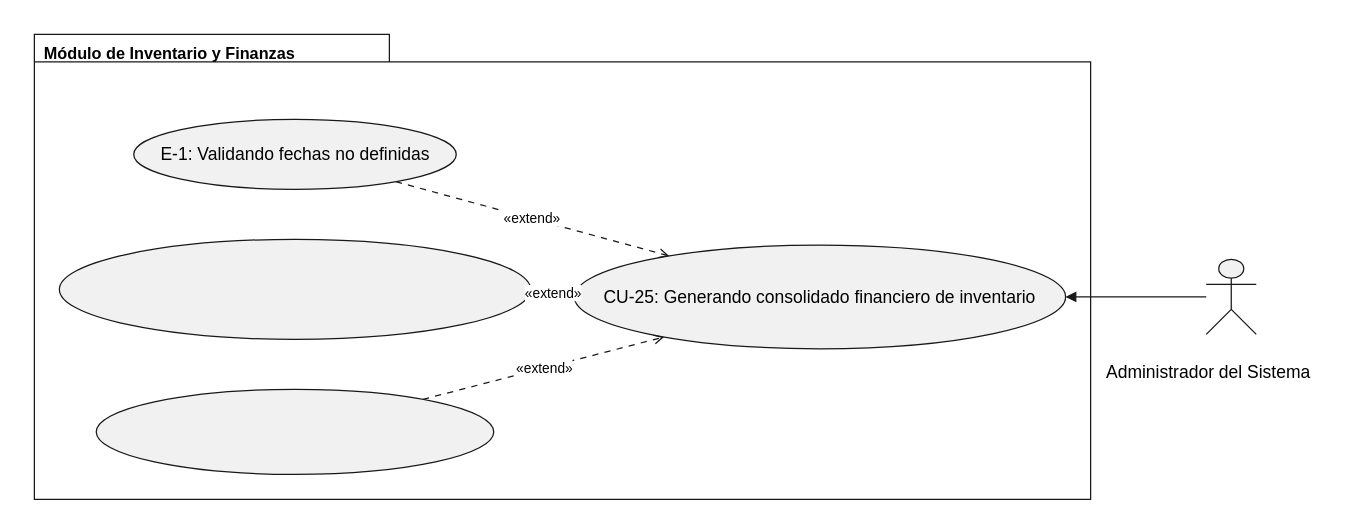
This 1345x521 diagram has some shape labels left out. The shapes that lost their labels are listed below. From the top down, each one's box as (x1, y1, x2, y2) in pixels, then its label:
(58, 238, 531, 339): E-2: Validando materiales sin costo en base de datos
(95, 388, 494, 474): E-3: Gestionando error de generación visual
